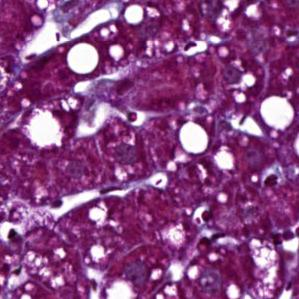inflammation: (190, 207, 231, 250), (178, 37, 209, 57)
